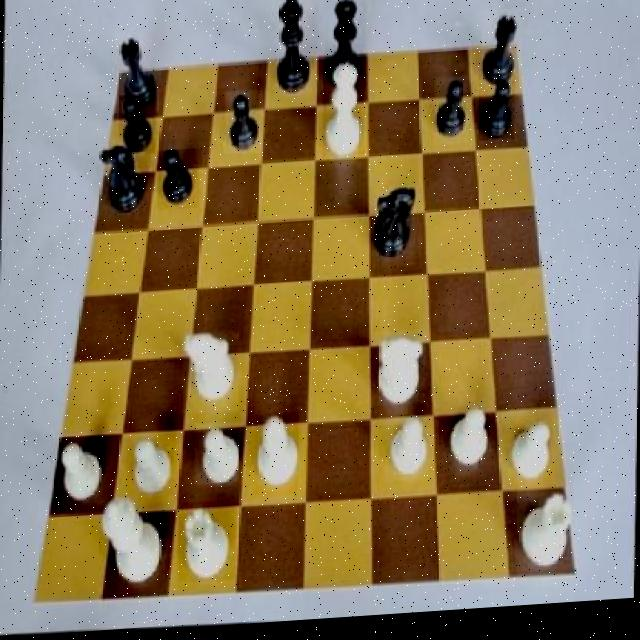black-bishop: (274, 0, 314, 102)
black-king: (97, 137, 146, 224), (372, 190, 416, 274)
black-knight: (158, 149, 202, 212), (224, 92, 263, 157), (434, 83, 469, 153), (480, 81, 516, 147), (118, 96, 156, 158)
black-pawn: (323, 0, 366, 99)
black-queen: (111, 32, 160, 115), (481, 14, 522, 106)
black-rook: (254, 417, 300, 501)
white-bishop: (100, 496, 168, 593)
white-king: (184, 333, 241, 417), (372, 334, 426, 413)
white-knight: (54, 434, 108, 507), (511, 417, 554, 496), (126, 434, 176, 501), (194, 424, 242, 490), (384, 421, 431, 488), (446, 411, 491, 480)
white-pawn: (322, 63, 364, 162)
white-queen: (517, 494, 586, 580), (178, 509, 237, 586)
